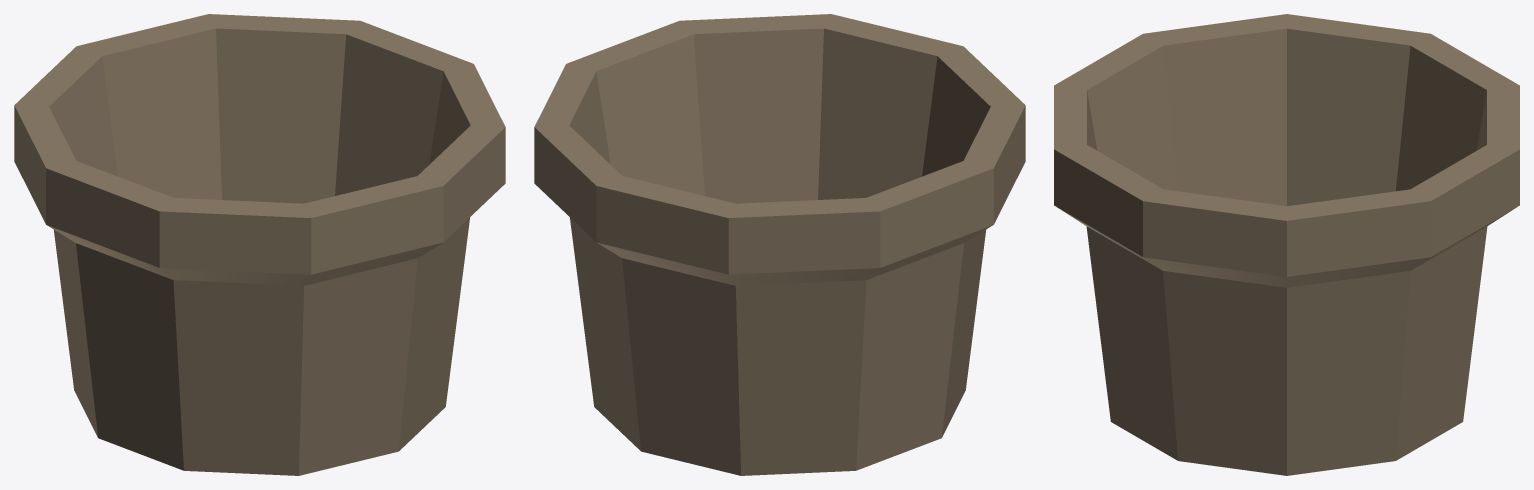
Rendered from uekibachi.fbx.
3 renders of one model, left to right at view 1: azimuth 30°, elevation 25°; view 2: azimuth 150°, elevation 25°; view 3: azimuth 270°, elevation 25°, orthographic.
Parts seen in each view (by area): view 1: pCylinder10; view 2: pCylinder10; view 3: pCylinder10.
Part boxes in pixels (bbox=[...]): pCylinder10: bbox=[14, 14, 505, 475]; pCylinder10: bbox=[534, 14, 1025, 475]; pCylinder10: bbox=[1054, 14, 1519, 475].
Size of the model in its own units: 0.5911 by 0.3732 by 0.5621.
